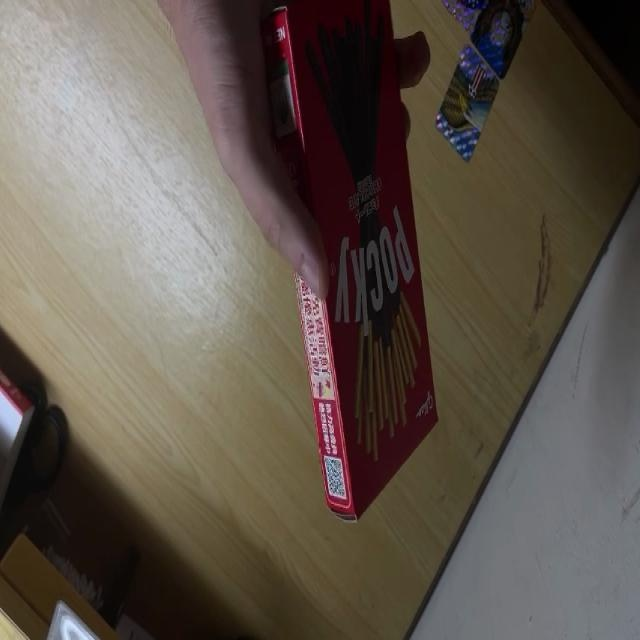Pocky: (262, 0, 439, 520)
